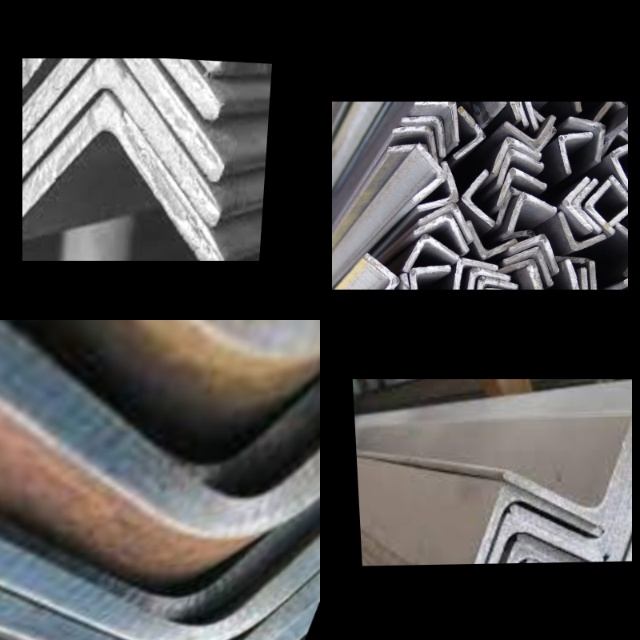Angle: (0, 320, 320, 547), (0, 451, 320, 640), (0, 320, 320, 495), (0, 482, 320, 640), (0, 527, 320, 640), (22, 109, 224, 261), (22, 58, 219, 208), (22, 58, 218, 168), (0, 574, 320, 640), (22, 58, 215, 125), (504, 424, 632, 520), (461, 492, 597, 564), (462, 521, 597, 564), (523, 520, 632, 563), (531, 533, 632, 563), (22, 58, 214, 72), (0, 320, 320, 328), (542, 535, 632, 563), (472, 548, 603, 564), (415, 217, 467, 250), (418, 102, 457, 138), (421, 165, 454, 207), (416, 148, 443, 199), (405, 118, 444, 153), (500, 170, 544, 201), (463, 174, 492, 221), (408, 238, 454, 267), (422, 208, 471, 235), (495, 140, 536, 171), (506, 117, 554, 143), (513, 238, 556, 267), (397, 128, 437, 159), (501, 151, 542, 181), (563, 214, 599, 247), (506, 250, 549, 277), (513, 196, 555, 222), (457, 261, 494, 290), (471, 224, 509, 252), (574, 119, 601, 158), (457, 110, 480, 154), (568, 180, 589, 228), (590, 184, 611, 231), (365, 257, 393, 290), (577, 181, 597, 227), (560, 136, 588, 167), (412, 266, 448, 290), (592, 264, 625, 290), (469, 272, 508, 290), (612, 181, 628, 222)
